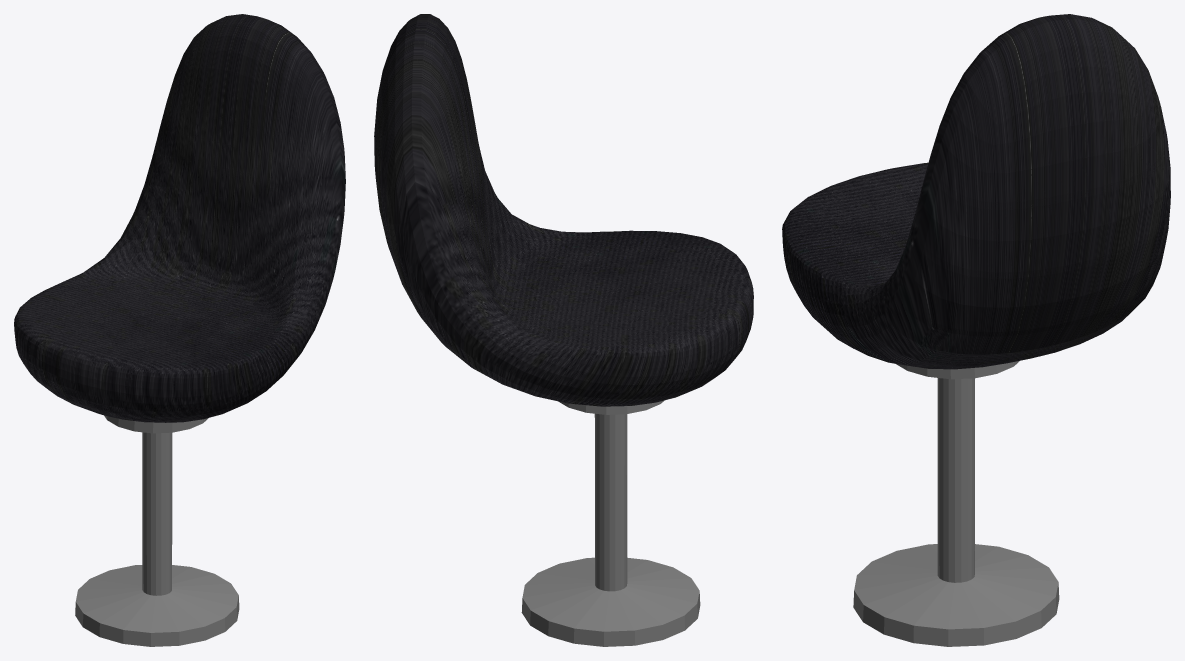
The model's file is Silla.fbx.
3 renders of one model, left to right at view 1: azimuth 30°, elevation 25°; view 2: azimuth 150°, elevation 25°; view 3: azimuth 270°, elevation 25°, orthographic. The views are drawn at different scales.
Parts seen in each view (by area): view 1: Circle.001; view 2: Circle.001; view 3: Circle.001.
Boxes of the visible parts, x1,y1,x2,y2 form: Circle.001: [14, 14, 345, 646]; Circle.001: [374, 14, 753, 646]; Circle.001: [782, 14, 1170, 646].
Size of the model in its own units: 3.38 by 5.6 by 2.95.
2 materials, 2 textured.
